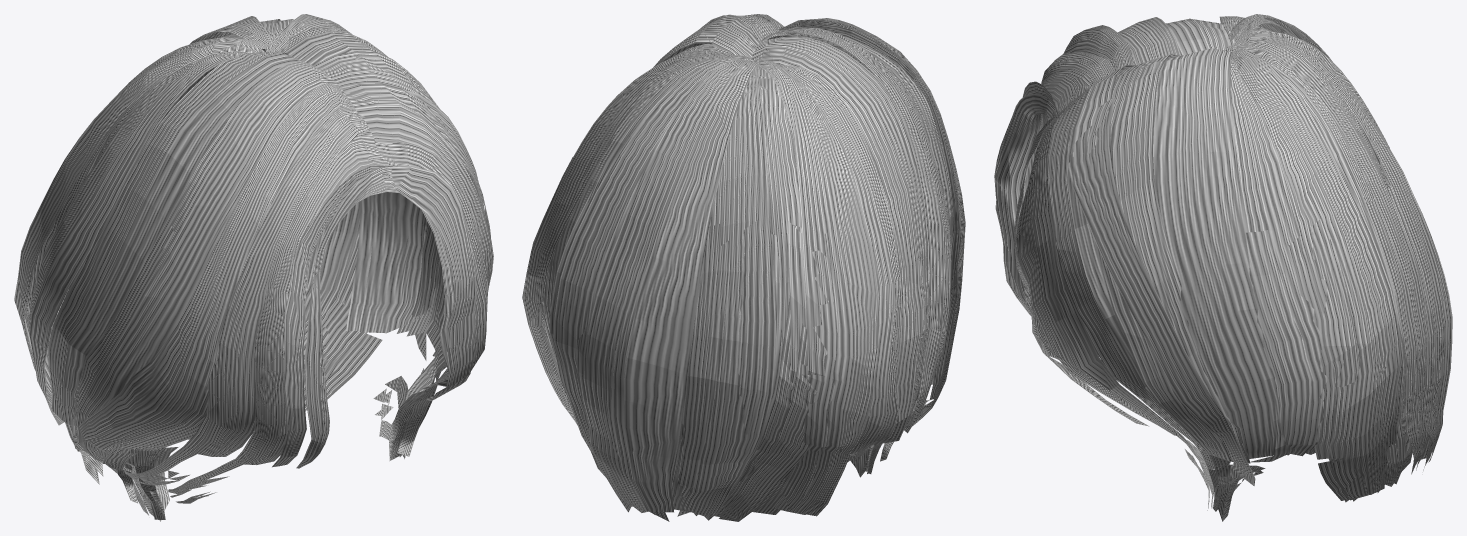
Rendered from daz_hair_sport_ponytail.glb.
3 renders of one model, left to right at view 1: azimuth 30°, elevation 25°; view 2: azimuth 150°, elevation 25°; view 3: azimuth 270°, elevation 25°, orthographic. The views are drawn at different scales.
Visible parts, largest first — view 1: daz_hair_sport_ponytail; view 2: daz_hair_sport_ponytail; view 3: daz_hair_sport_ponytail.
Boxes of the visible parts, x1,y1,x2,y2 form: daz_hair_sport_ponytail: (14, 14, 493, 521); daz_hair_sport_ponytail: (522, 14, 965, 521); daz_hair_sport_ponytail: (994, 14, 1452, 521).
Bounding box in the file's own units: 0.2296 × 0.2479 × 0.2381.
1 material, 1 textured.
